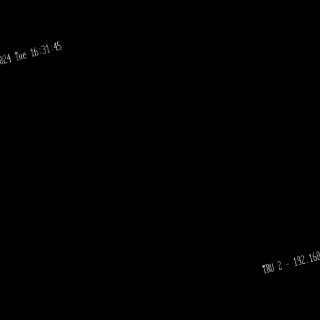screen: (54, 0, 265, 293)
